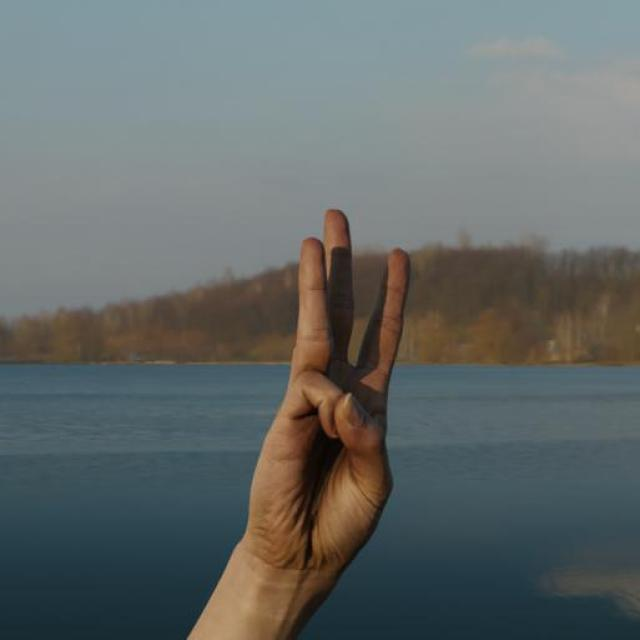W: (197, 175, 436, 640)
